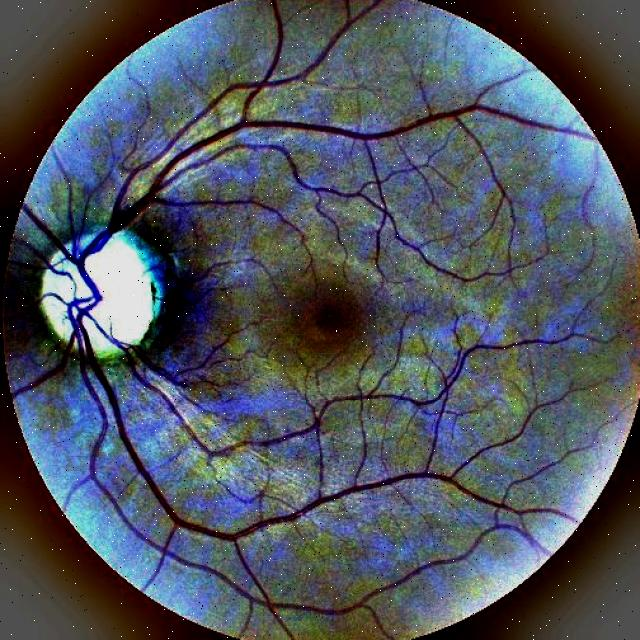Macula: (316, 302, 343, 329)
Optic Disk: (39, 230, 164, 358)
